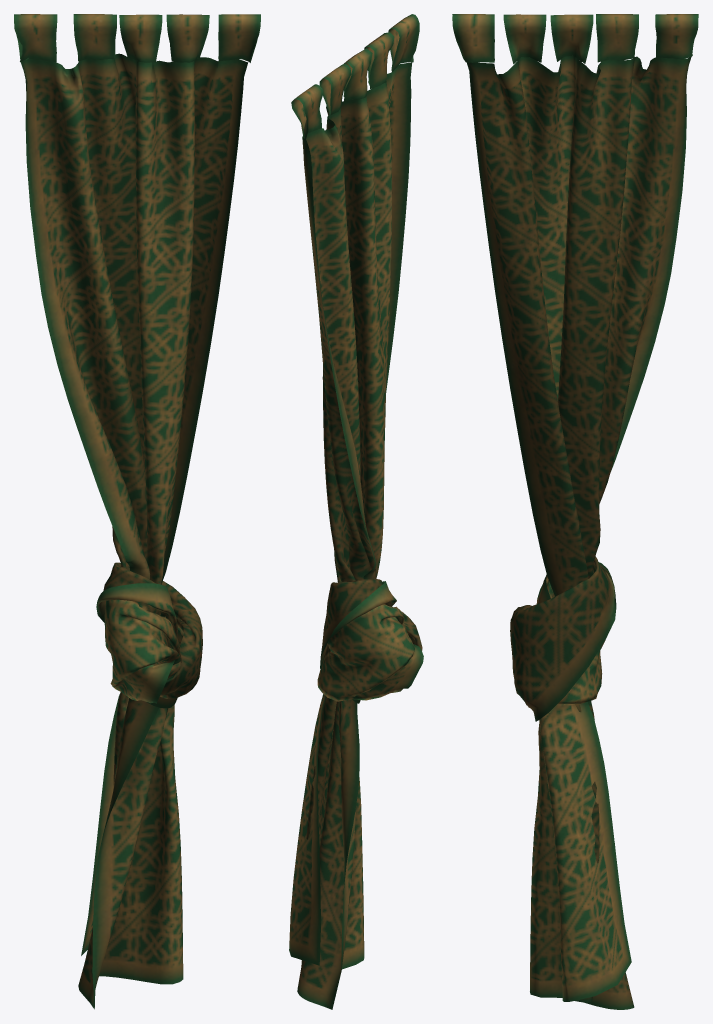
Rendered from SM_CurtainKnot.fbx.
3 views of the same model, side by side, from view 1: azimuth 90°, elevation 25°; view 2: azimuth 150°, elevation 25°; view 3: azimuth 270°, elevation 25° (orthographic). The views are drawn at different scales.
Parts seen in each view (by area): view 1: SM_CurtainKnot_LOD0; view 2: SM_CurtainKnot_LOD0; view 3: SM_CurtainKnot_LOD0.
Part boxes in pixels (bbox=[...]): SM_CurtainKnot_LOD0: bbox=[14, 14, 260, 1009]; SM_CurtainKnot_LOD0: bbox=[289, 14, 423, 1009]; SM_CurtainKnot_LOD0: bbox=[452, 14, 698, 1009].
Bounding box in the file's own units: 70.27 × 126 × 561.
Materials: 1 (1 with a texture image).
